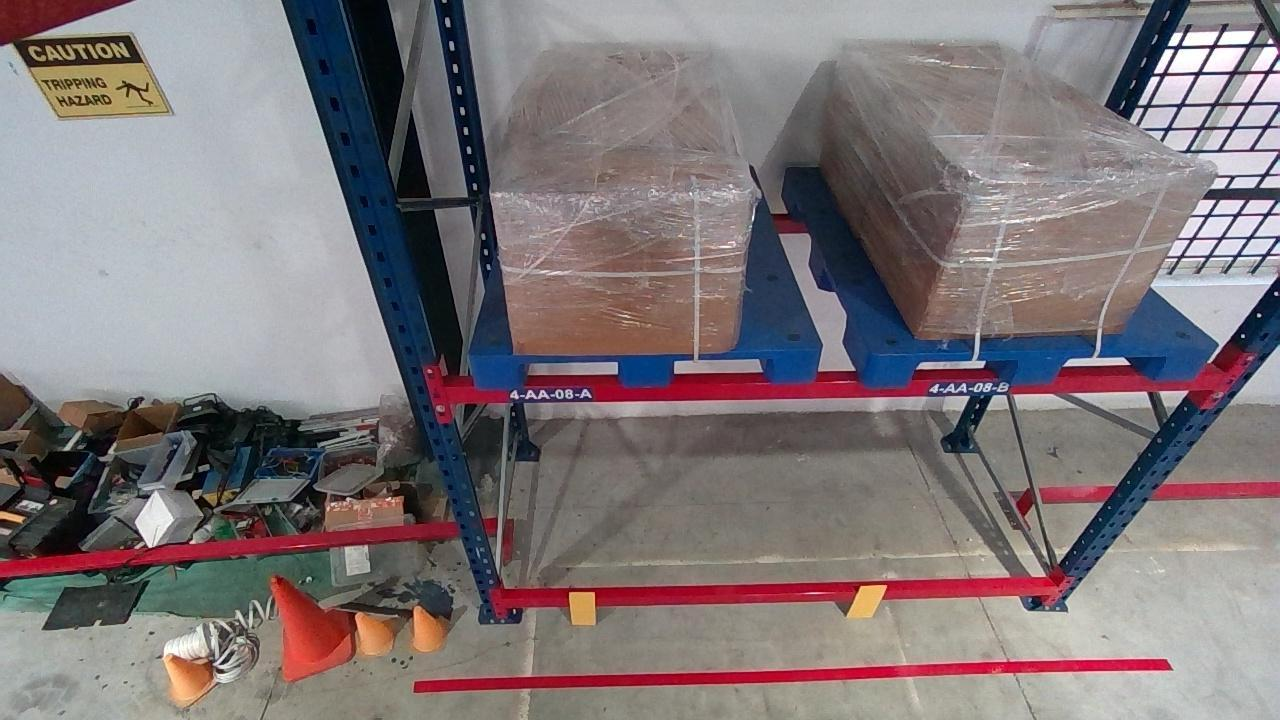h_rack: (446, 371, 1220, 402), (505, 580, 1059, 607)
orange_strip: (845, 583, 888, 617), (569, 592, 595, 624)
red_line: (412, 657, 1171, 692)
small_pallet: (861, 347, 1222, 384), (469, 351, 819, 384)
